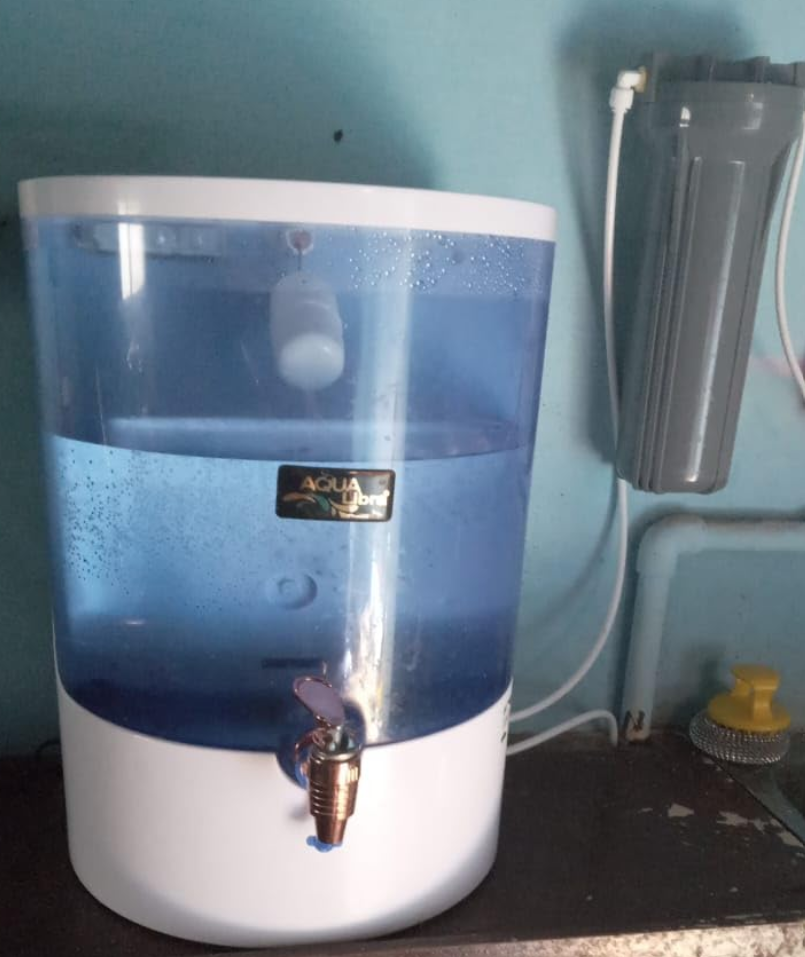water purifier: (16, 139, 560, 943)
